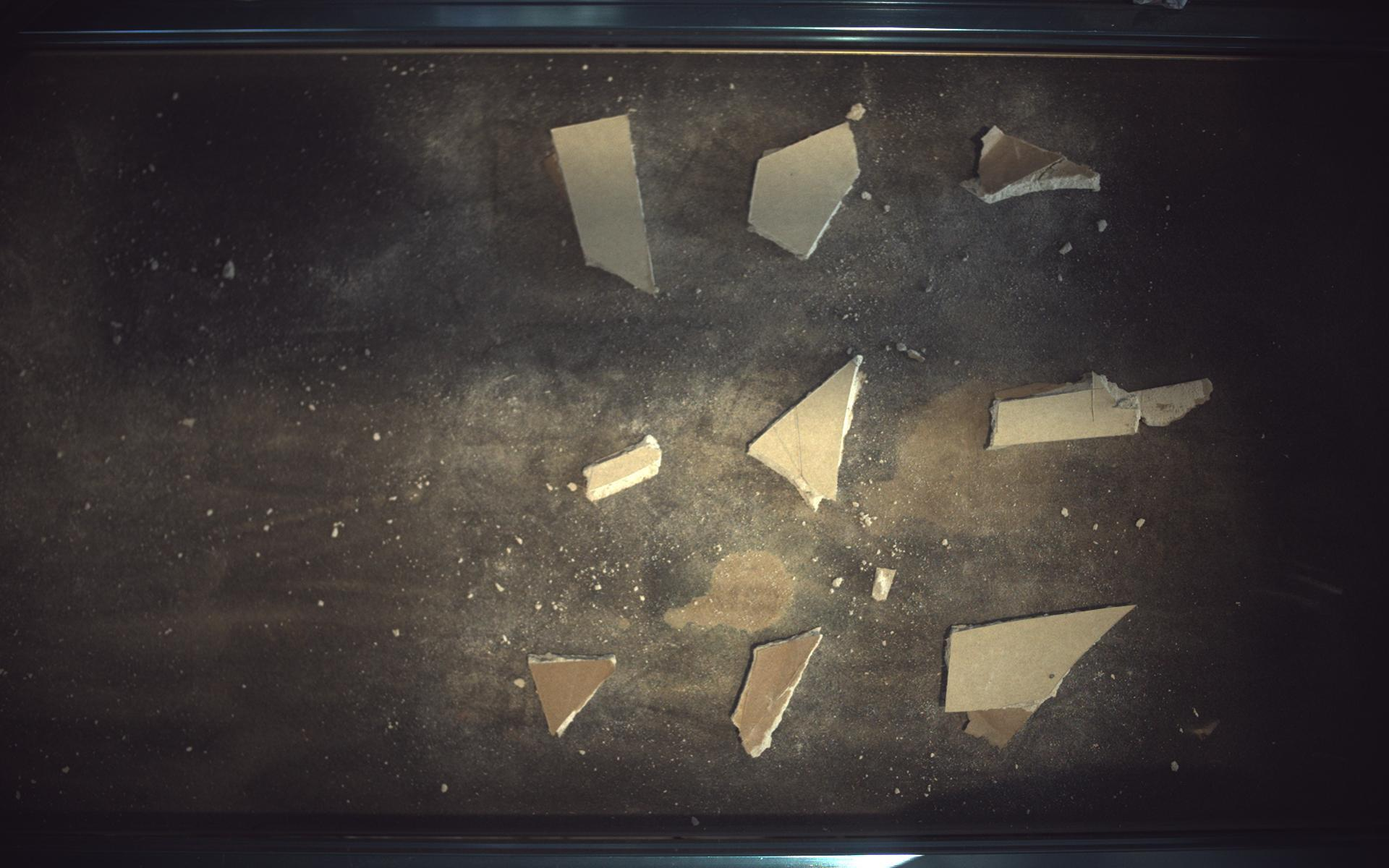gypsum_board: (947, 605, 1137, 749), (552, 114, 659, 294), (749, 354, 867, 511), (989, 373, 1215, 449), (749, 122, 862, 258), (732, 629, 823, 759), (964, 125, 1103, 203), (529, 655, 617, 738), (584, 435, 663, 503)
